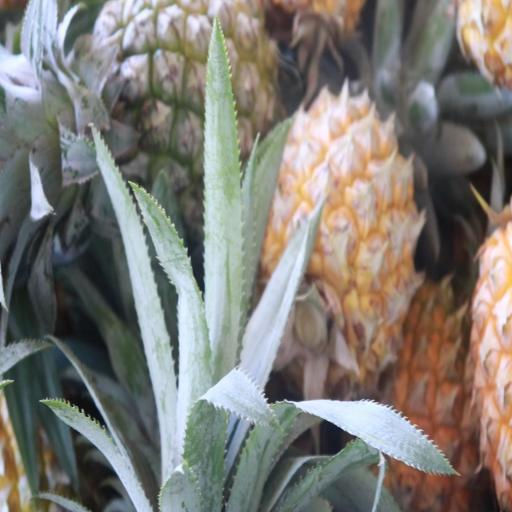Pineapple - v8 v1: (266, 90, 423, 374)
